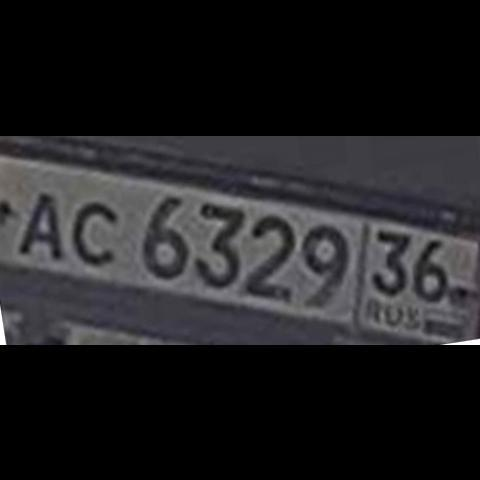license-plateSW: (0, 145, 478, 344)
